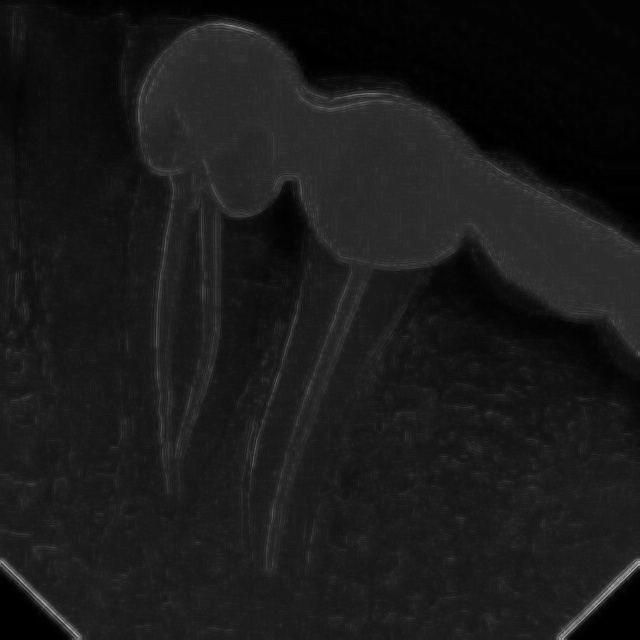Class 0- No endodontic treatment: (97, 18, 473, 622)
